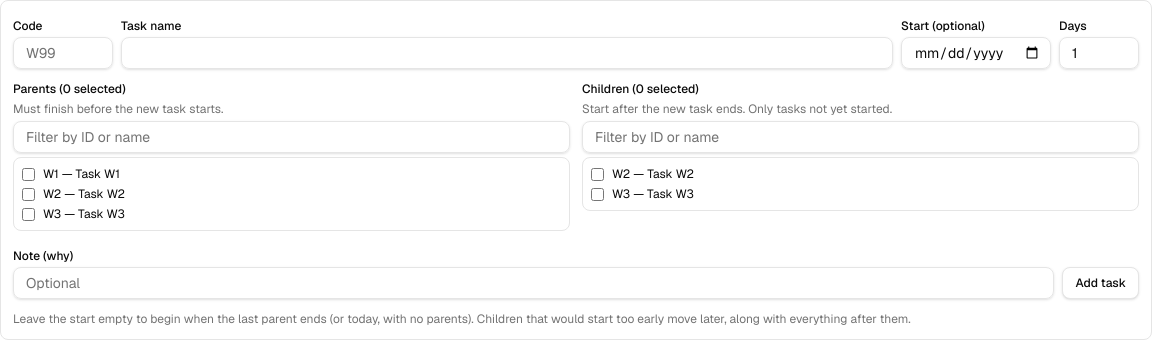
Test case: Add a task › can't pick the same task on both sides
The width and height of the screenshot is (1152, 357).
What coordinates should you click on to do the following:
click the checkbox labelled "W2 — Task W2" below "W1 — Task W1"
I would click on:
 (28, 194)
Its box is x1=22 y1=188 x2=35 y2=200.
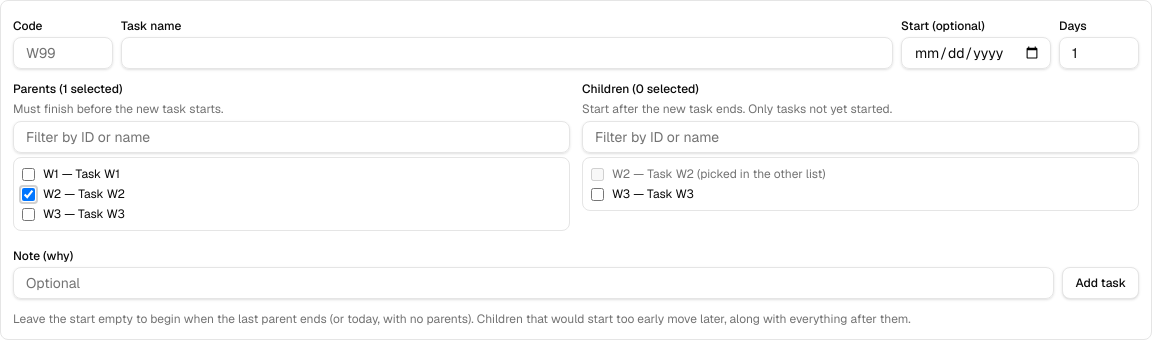
Expected: the checkbox labelled "W2 — Task W2 (picked in the other list)" is disabled, x1=591 y1=168 x2=604 y2=180
